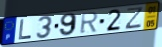2: (106, 8, 123, 32)
3: (35, 15, 54, 40)
9: (59, 13, 80, 38)
L: (18, 18, 33, 41)
R: (79, 11, 100, 35)
Z: (124, 6, 145, 30)
